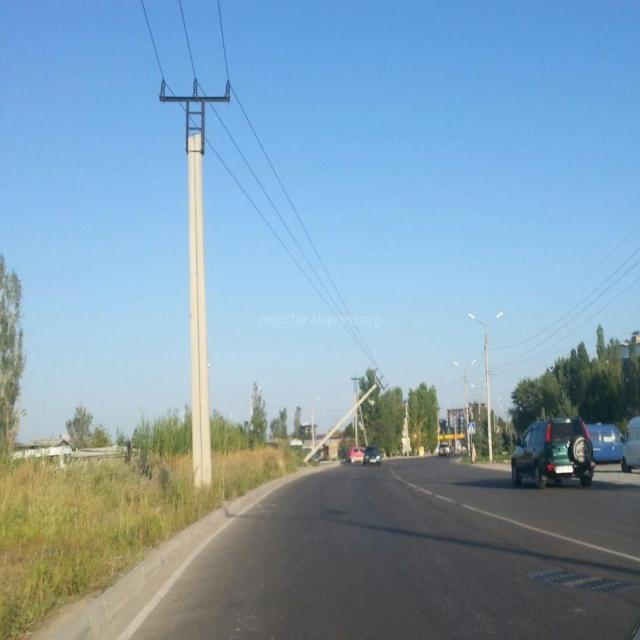pole: (171, 162, 230, 494)
